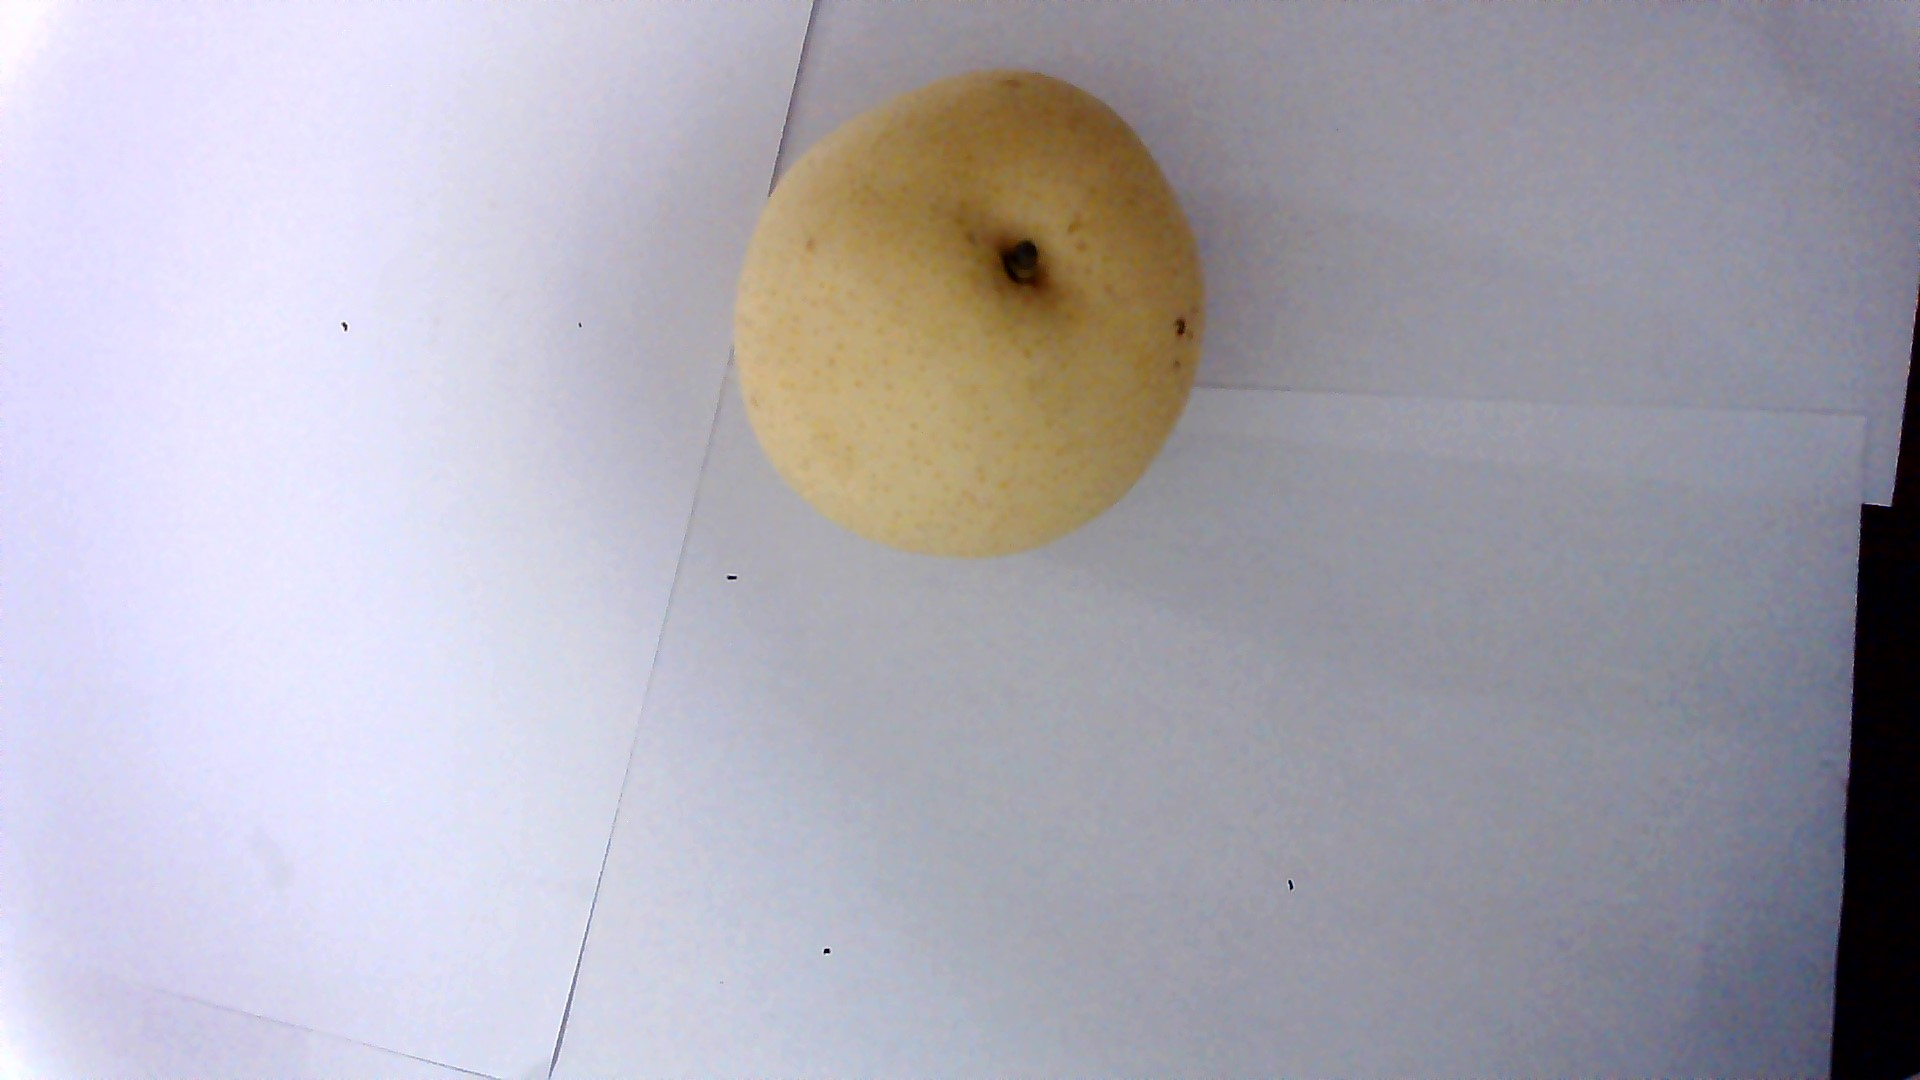pear: (758, 96, 1218, 558)
